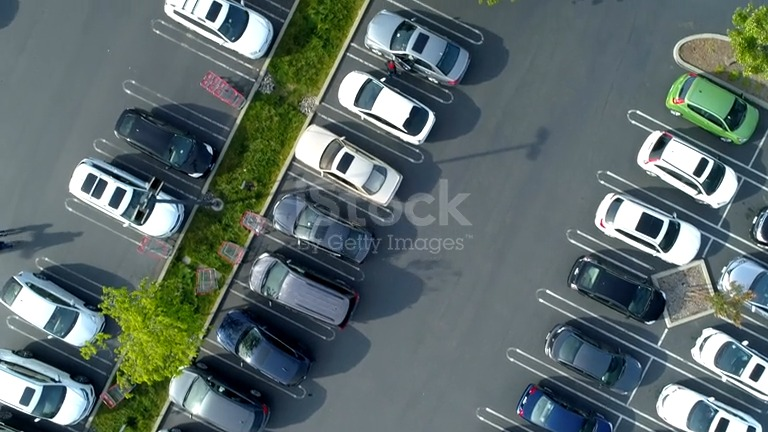car: (69, 157, 184, 236), (296, 125, 402, 205), (249, 253, 358, 328), (0, 271, 105, 346), (636, 131, 737, 207), (364, 11, 470, 83), (216, 308, 311, 386), (0, 348, 96, 425), (595, 194, 700, 263), (338, 71, 435, 144), (273, 195, 378, 262), (114, 109, 214, 177), (170, 363, 269, 431), (545, 324, 641, 394), (567, 256, 665, 323), (666, 73, 758, 142), (164, 0, 273, 58), (690, 328, 767, 402), (657, 384, 761, 431), (517, 384, 612, 431), (717, 256, 767, 317), (678, 401, 715, 431), (335, 282, 342, 284)
